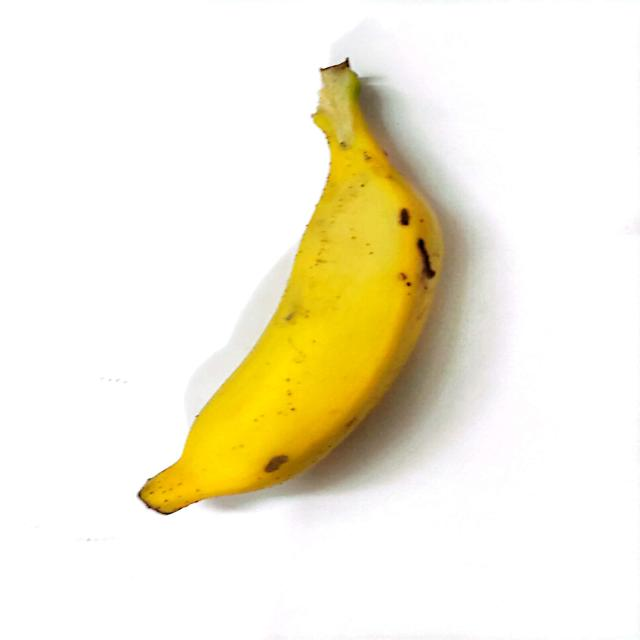fresh_banana: (138, 72, 442, 516)
